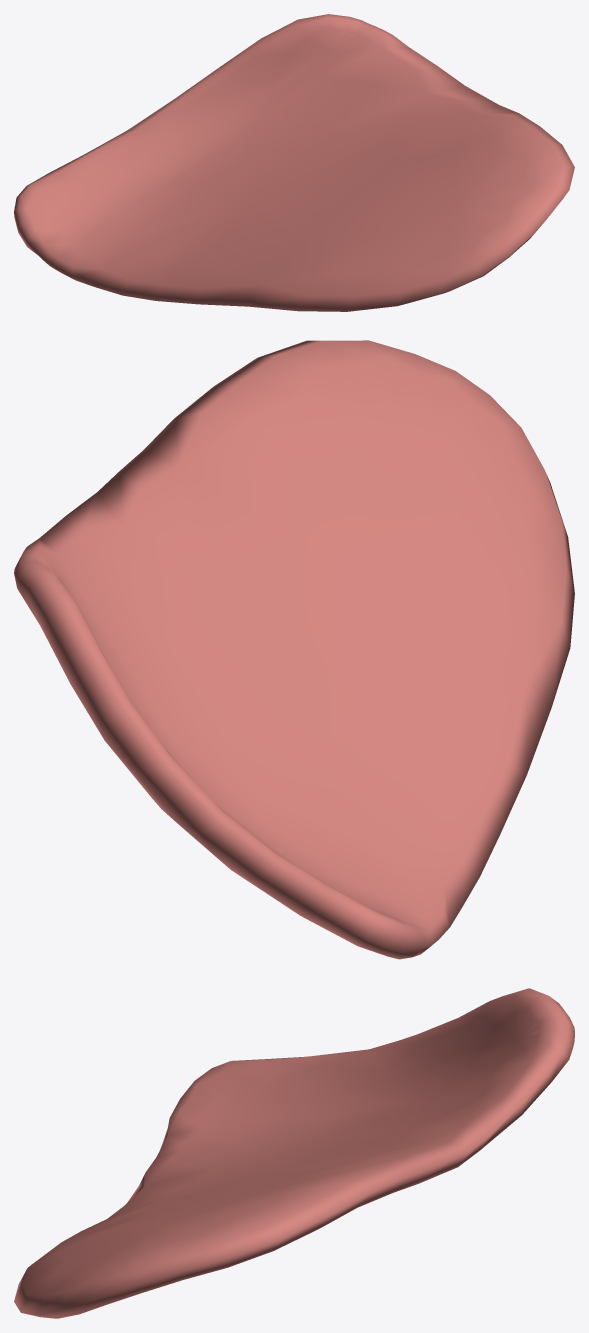
The picture shows the model from 3 angles, top to bottom: view 1: azimuth 30°, elevation 25°; view 2: azimuth 150°, elevation 25°; view 3: azimuth 330°, elevation 25°; orthographic projection. The views are drawn at different scales.
Parts seen in each view (by area): view 1: ZA_c801b36e383697c8; view 2: ZA_c801b36e383697c8; view 3: ZA_c801b36e383697c8.
Boxes of the visible parts, left/top/right/bottom form: ZA_c801b36e383697c8: left=14, top=14, right=574, bottom=311; ZA_c801b36e383697c8: left=14, top=340, right=574, bottom=959; ZA_c801b36e383697c8: left=14, top=988, right=574, bottom=1318.
Bounding box in the file's own units: 0.00705 × 0.004 × 0.0107.
